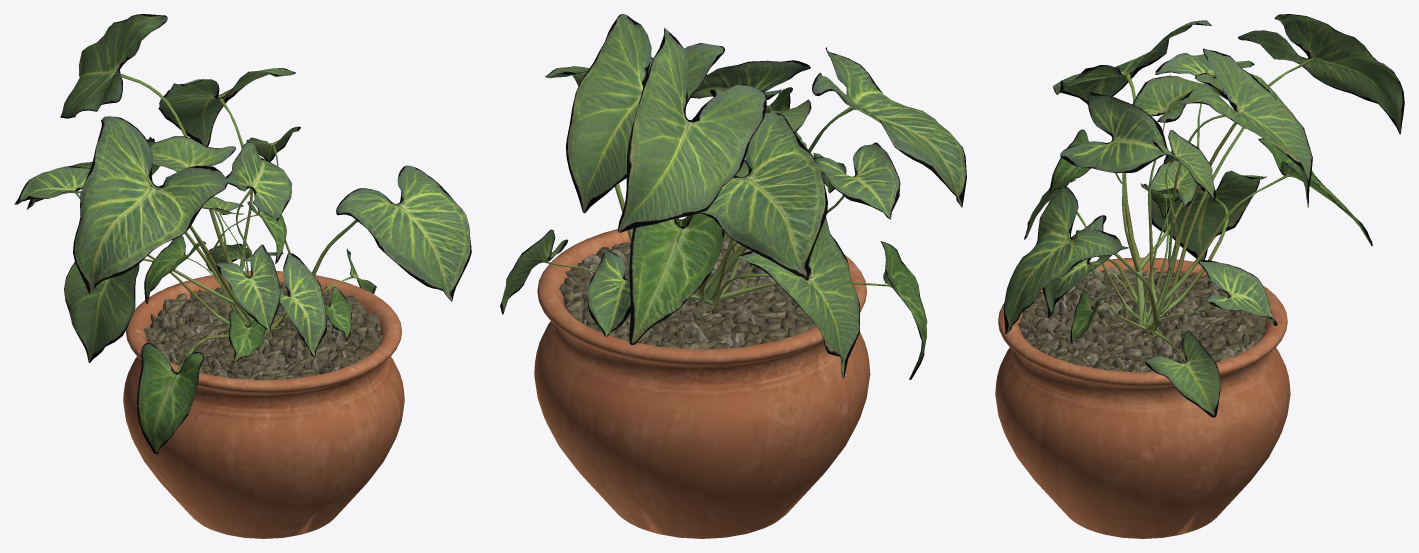
The model's file is potted_plant_02.glb.
The picture shows the model from 3 angles, left to right: view 1: azimuth 30°, elevation 25°; view 2: azimuth 150°, elevation 25°; view 3: azimuth 270°, elevation 25°; orthographic projection. The views are drawn at different scales.
Parts seen in each view (by area): view 1: potted_plant_02_leaves, potted_plant_02_pot, potted_plant_02_dirt; view 2: potted_plant_02_leaves, potted_plant_02_pot, potted_plant_02_dirt; view 3: potted_plant_02_leaves, potted_plant_02_pot, potted_plant_02_dirt.
Part boxes in pixels (left/top/right/bottom): potted_plant_02_leaves: left=14, top=14, right=471, bottom=453; potted_plant_02_pot: left=123, top=271, right=404, bottom=538; potted_plant_02_dirt: left=143, top=282, right=383, bottom=380; potted_plant_02_leaves: left=500, top=14, right=966, bottom=379; potted_plant_02_pot: left=534, top=219, right=870, bottom=538; potted_plant_02_dirt: left=559, top=234, right=816, bottom=349; potted_plant_02_leaves: left=1004, top=14, right=1404, bottom=417; potted_plant_02_pot: left=995, top=257, right=1290, bottom=538; potted_plant_02_dirt: left=1018, top=267, right=1266, bottom=372.
Size of the model in its own units: 0.7009 by 0.8412 by 0.6574.
Materials: 2 (2 with a texture image).
